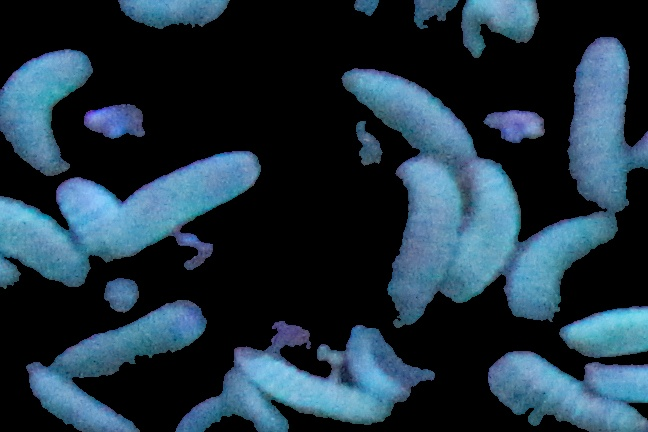larvae: (103, 146, 266, 256), (332, 67, 477, 167), (382, 158, 460, 329), (53, 301, 208, 382), (492, 351, 638, 432), (1, 48, 94, 174), (234, 350, 392, 424), (565, 36, 632, 206), (511, 217, 615, 324), (444, 156, 515, 305), (1, 193, 93, 286), (31, 368, 124, 432), (50, 178, 124, 258), (346, 322, 413, 405), (221, 376, 287, 431), (563, 315, 648, 355), (581, 360, 648, 401), (173, 394, 230, 432)
